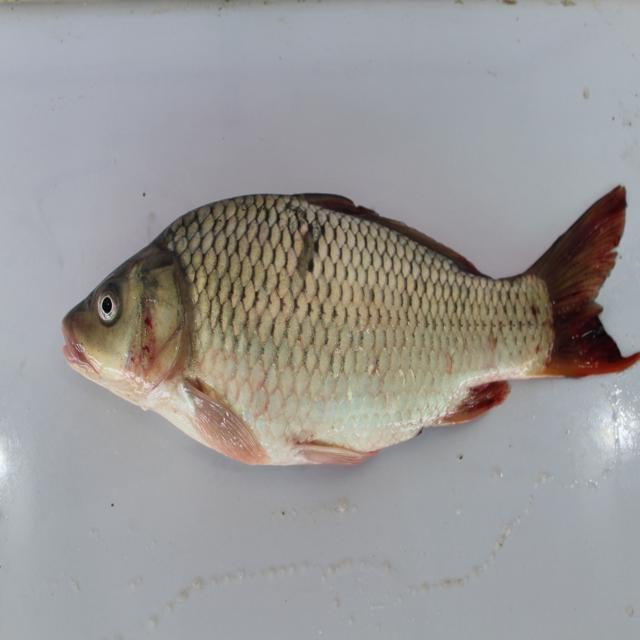CommonCarp: (44, 162, 640, 476)
